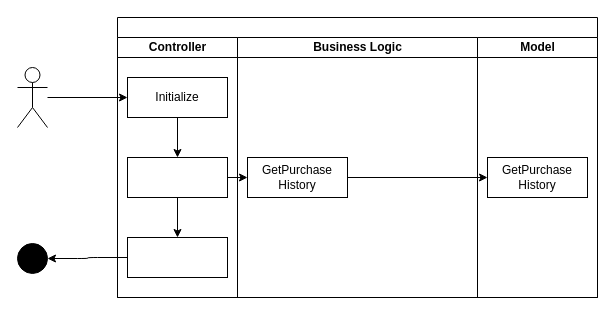
This 615x315 diagram has some shape labels left out. The shapes that lost their labels are listed below. From the top down, each one's centre as x and y in pixels, then its label:
At point 32,97: "User".
At point 177,177: "ViewPurchase History".
At point 177,257: "ShowHistory".
